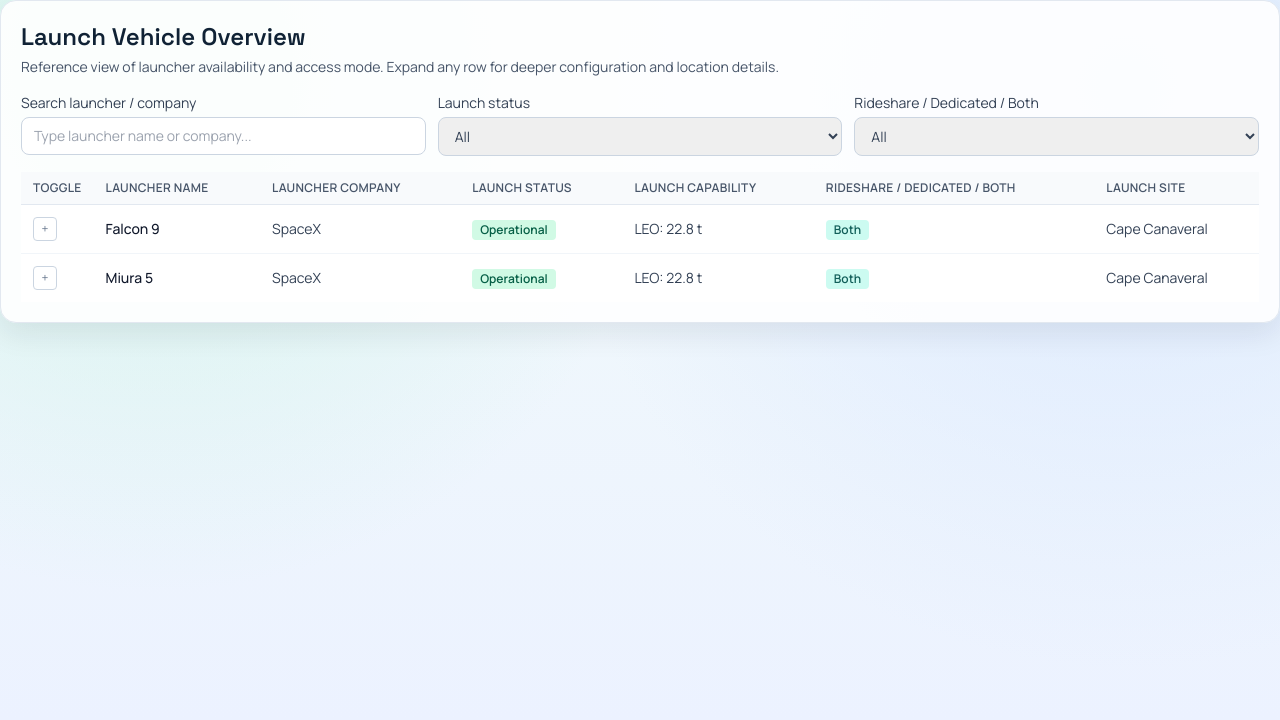
Test: LaunchVehicleOverviewSection › keeps a single row expanded at a time
What coordinates should you click on to do the following:
click the button named "Expand Falcon 9"
I would click on:
 (45, 229)
Its box is [33, 217, 57, 241].
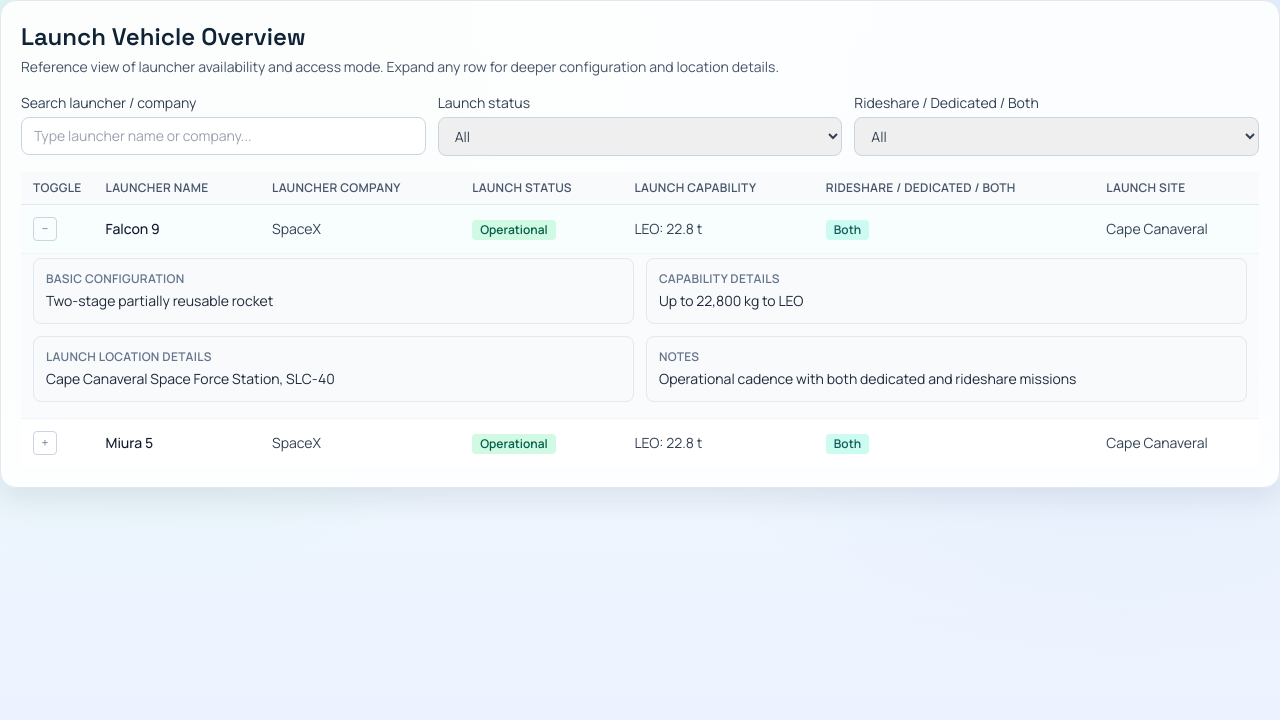
Expected: the text "Two-stage partially reusable rocket" is shown, [46, 291, 273, 310]
What coordinates should you click on to do the following:
click the button named "Expand Miura 5"
I would click on:
 (45, 443)
Its box is [33, 431, 57, 455].
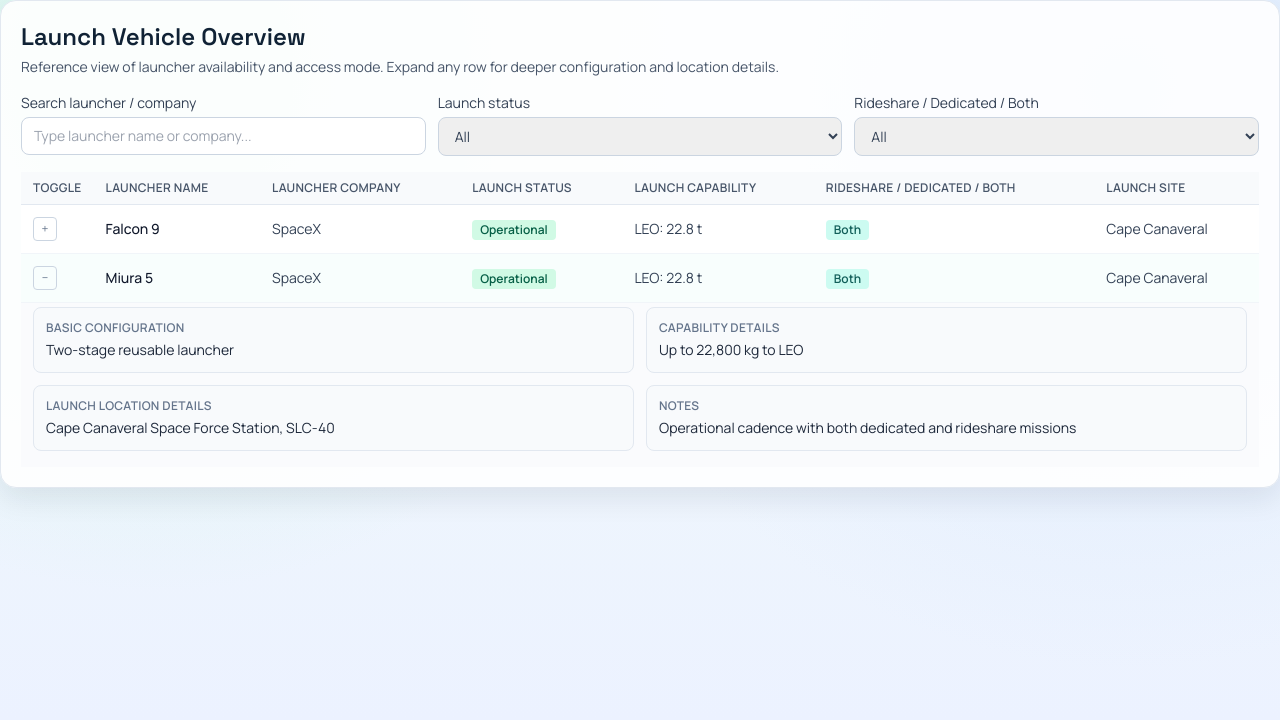
Expected: the text "Two-stage partially reusable rocket" is gone
